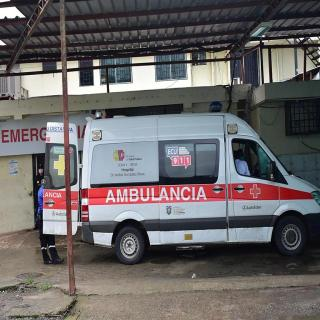Ambulance: (75, 86, 320, 275)
